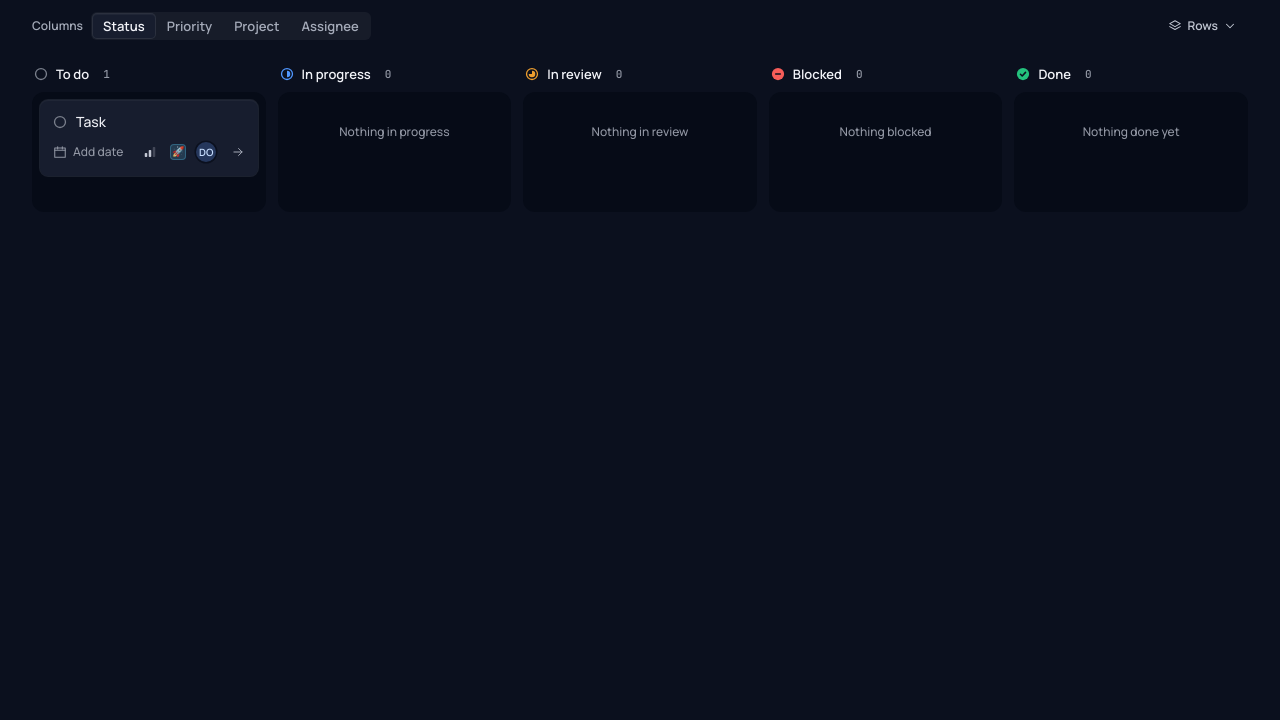
BoardView › sets a WIP limit from the dialog and rejects nonsense
Click the button named "1 task in To do. Set WIP limit" at (106, 74), box [97,64,116,84]
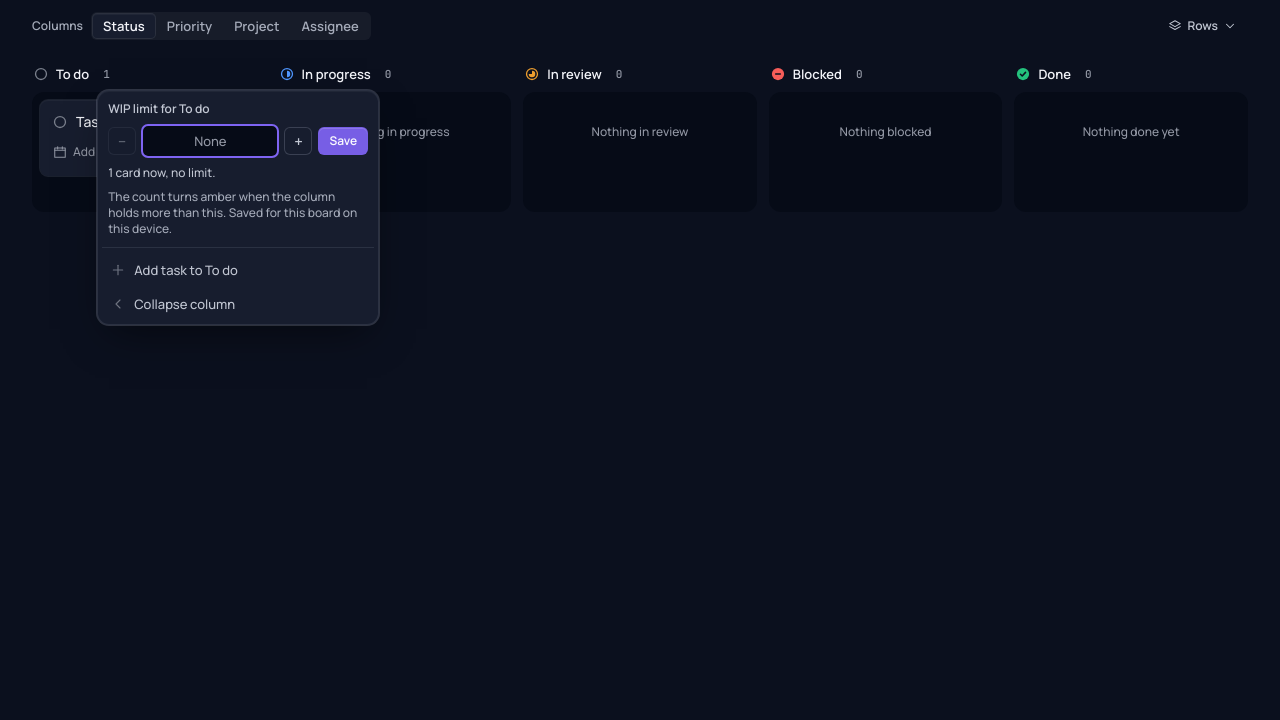
Type "0" into the number field labelled "WIP limit for To do" at (210, 141), box [142,125,278,157]
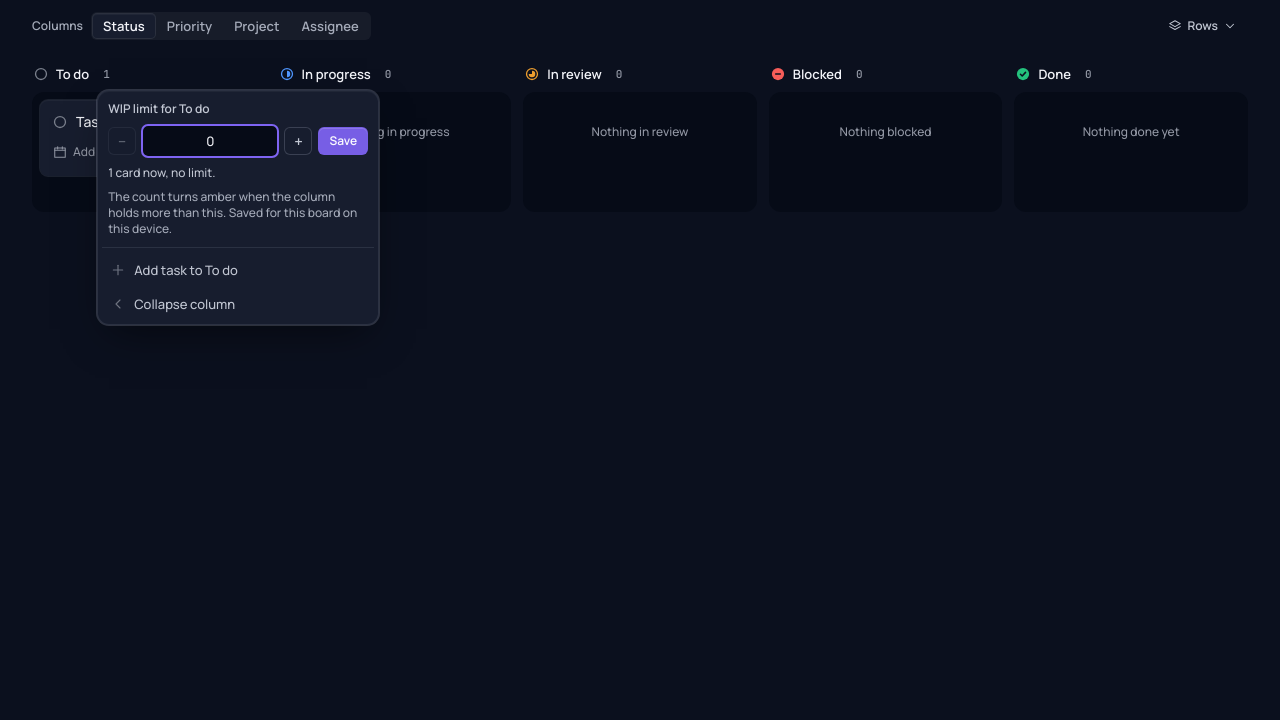
Click the button "Save" at (343, 141), box [318,127,368,155]
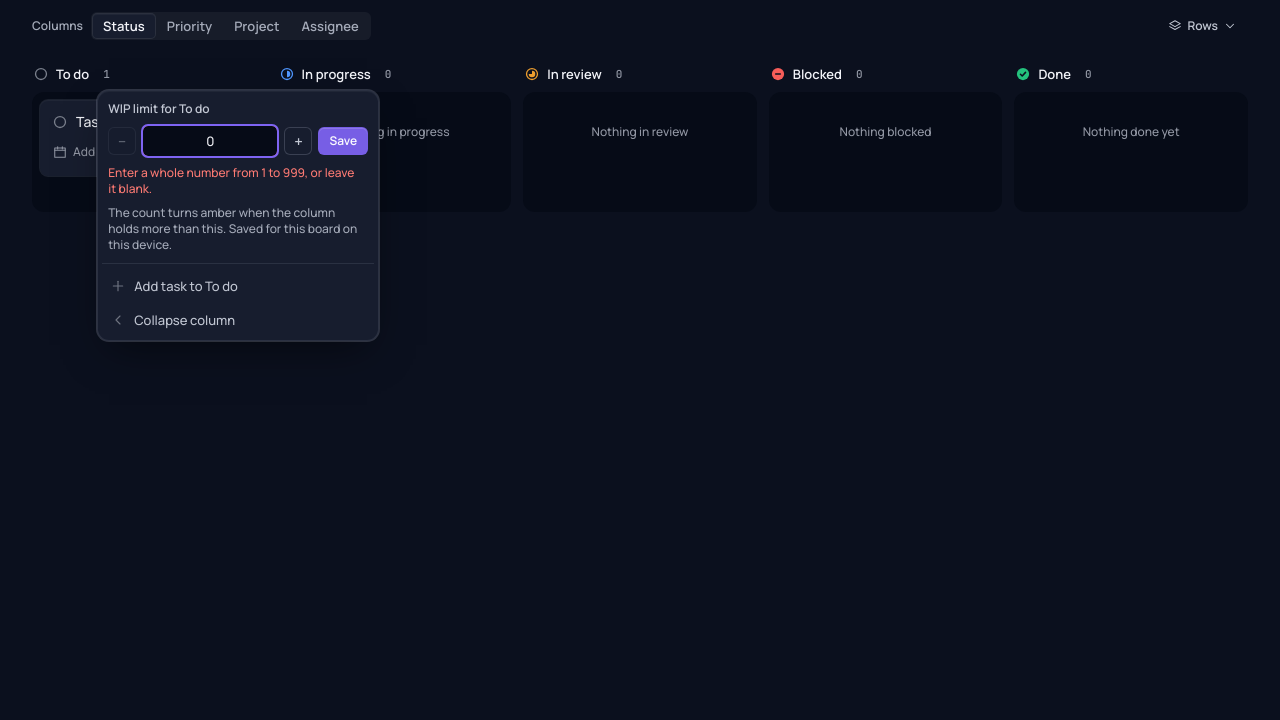
expect the message shows "whole number": met, box [108,164,354,197]
Replace the text in the number field labelled "WIP limit for To do" with "3" at (210, 141), box [142,125,278,157]
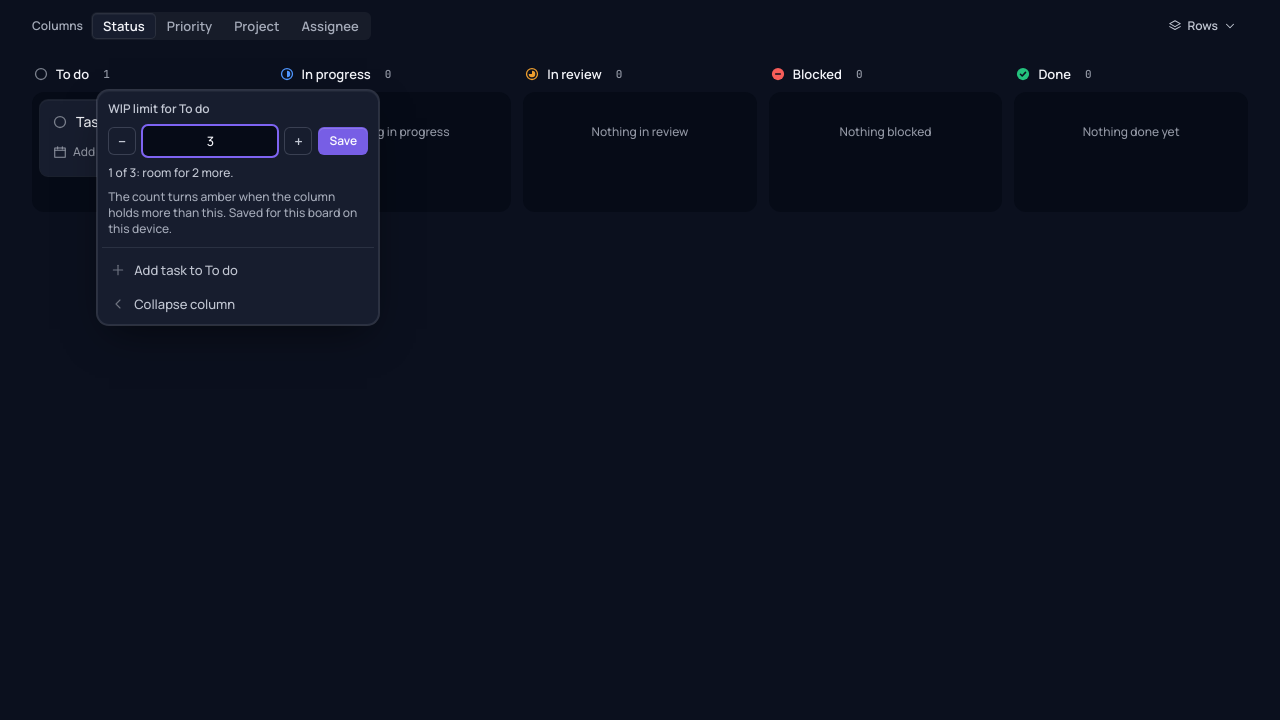
Click the button "Save" at (343, 141), box [318,127,368,155]
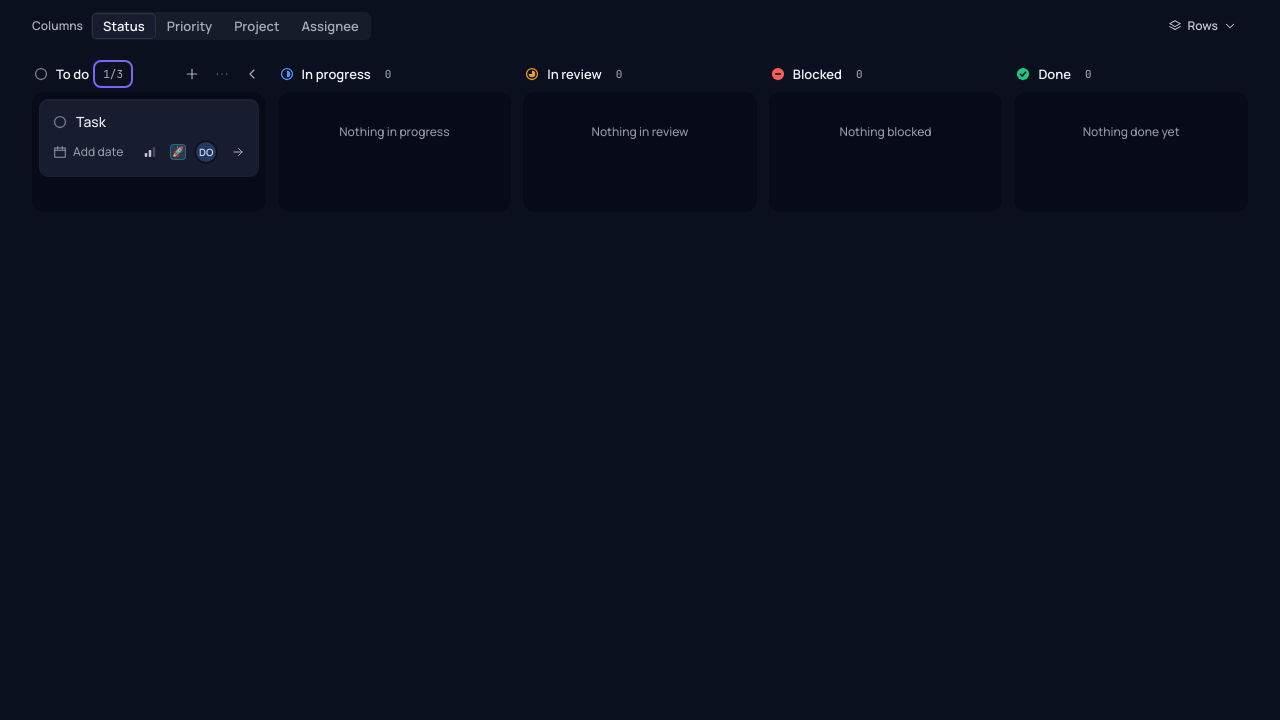
expect the button named "WIP limit 3" reads "1/3": met, box [97,64,129,84]
